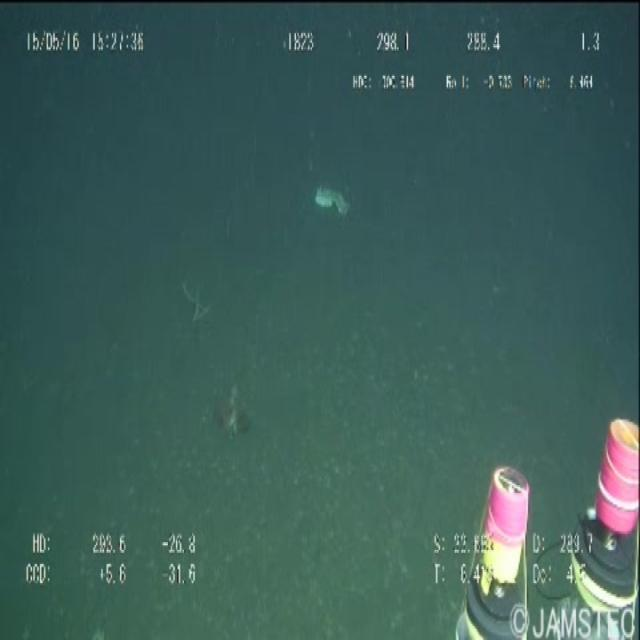Litter: (299, 169, 355, 235)
